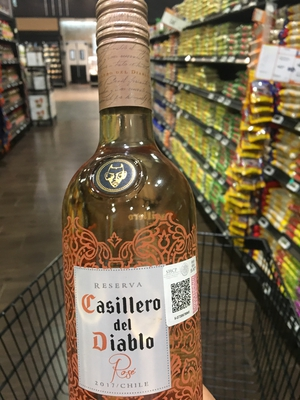casillero del diablo rose: (53, 4, 211, 400)
